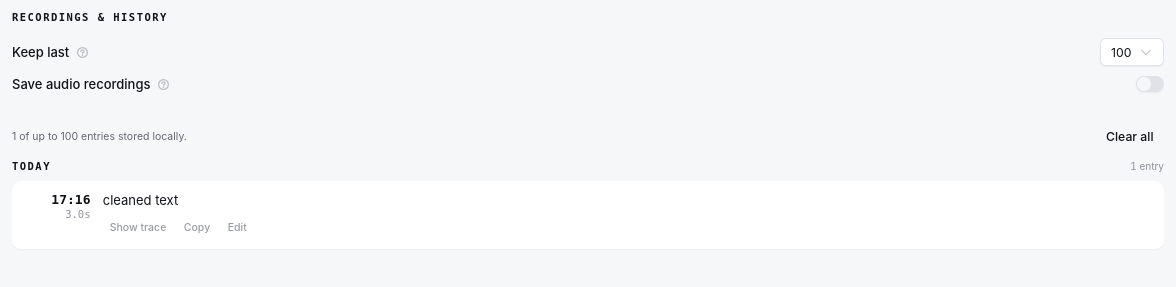
Test case: HistoryTab entry editing › shows a textarea with current text when Edit is clicked
This screenshot has width=1176, height=287.
Click the button "Edit".
click(237, 228)  # box [221,218,254,239]
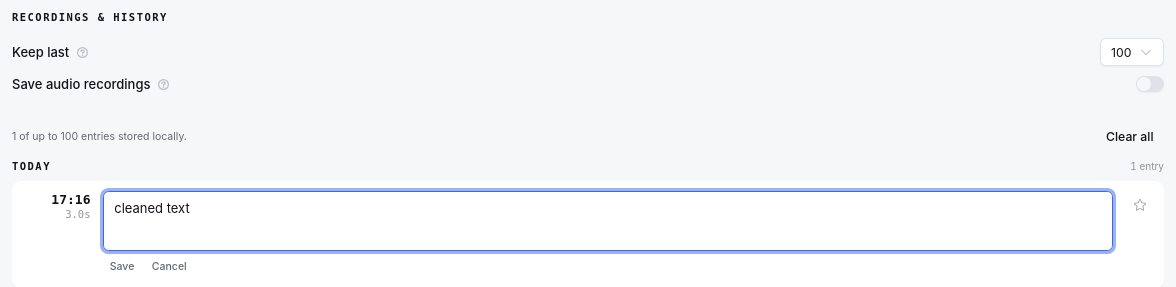
Expected: the text box holds "cleaned text", [103,191,1113,251]
